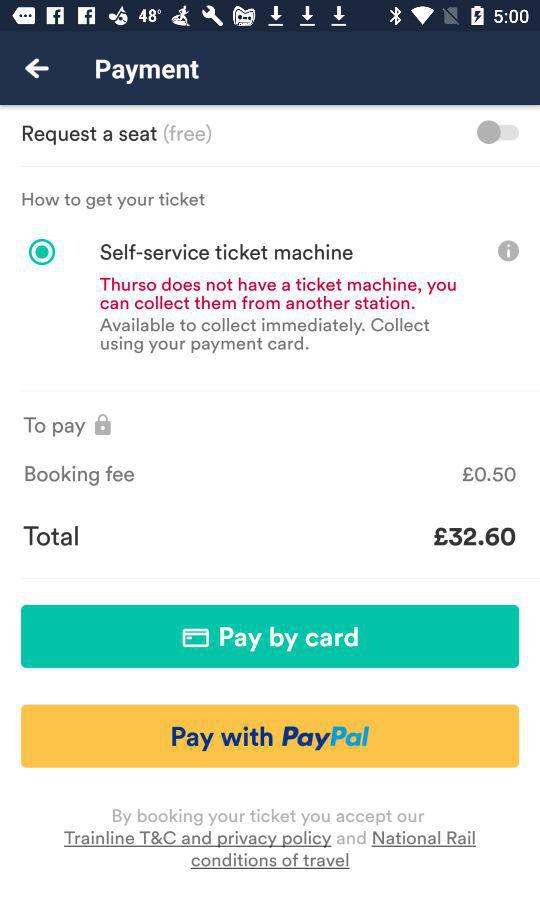CheckedTextView: (28, 238, 354, 267)
Icon: (25, 58, 51, 80), (498, 240, 520, 263), (95, 413, 113, 436)
Switch: (477, 121, 520, 146)
Text: (64, 809, 477, 870), (100, 317, 430, 354), (99, 277, 457, 311), (101, 244, 353, 261), (22, 192, 206, 211), (23, 127, 159, 147), (96, 61, 200, 86), (25, 465, 136, 487), (433, 527, 516, 547), (24, 416, 87, 438), (24, 525, 80, 547), (164, 124, 212, 146), (463, 467, 517, 483)
TextButton: (22, 704, 520, 769), (21, 605, 520, 669)
UpperTaskBar: (1, 1, 540, 33)
